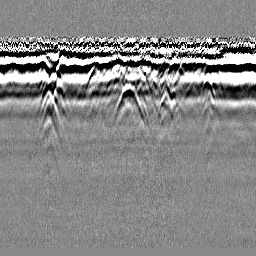cavity: (111, 83, 144, 127)
